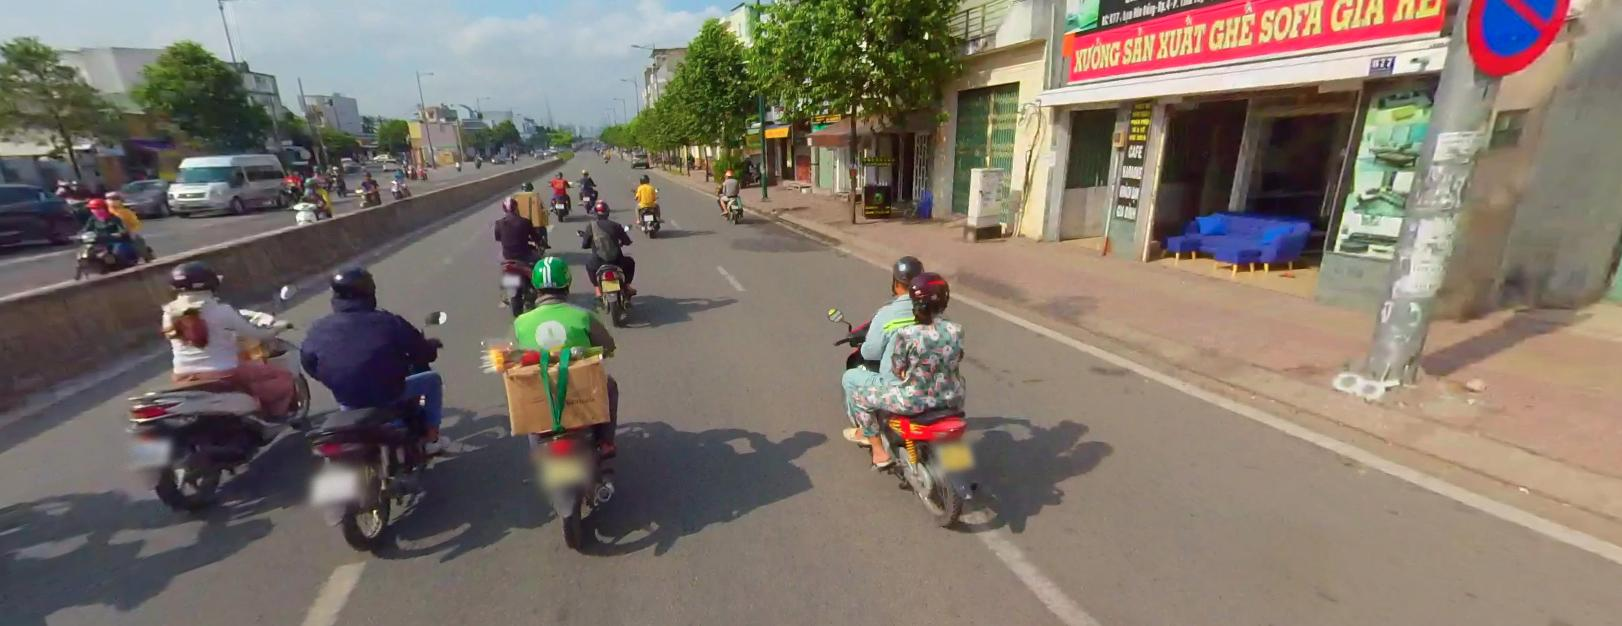Cam dung va do: (1468, 0, 1572, 78)
